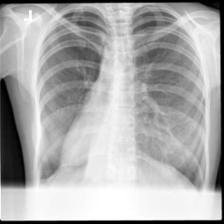tuberculosis: (30, 5, 212, 193)
